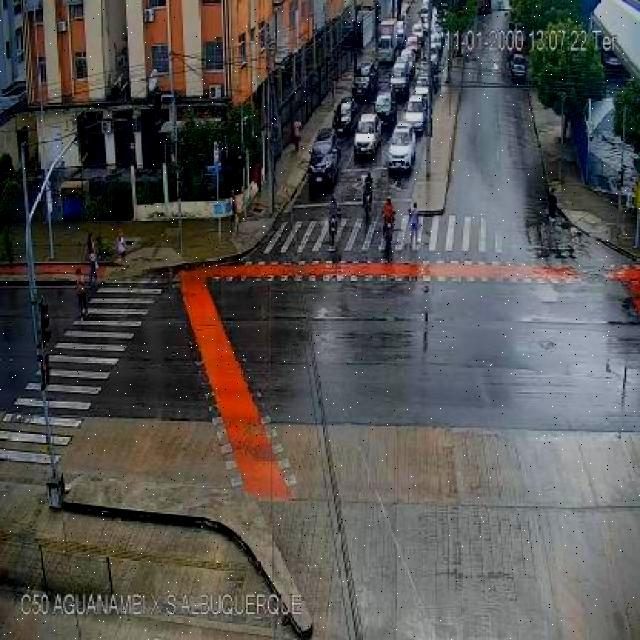Car: (304, 127, 340, 185), (385, 124, 417, 172), (353, 114, 382, 160), (333, 96, 359, 135), (401, 97, 427, 135), (350, 62, 377, 98), (389, 61, 412, 97), (374, 90, 397, 124), (508, 53, 528, 83), (410, 82, 430, 112)
Truck: (375, 18, 399, 66)
